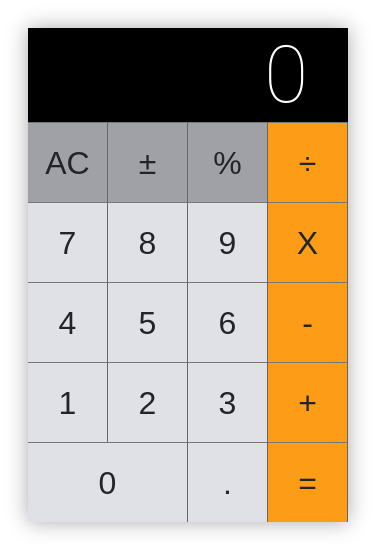
multiplies two numbers
Click the button "2" at (148, 402), box [108, 362, 188, 442]
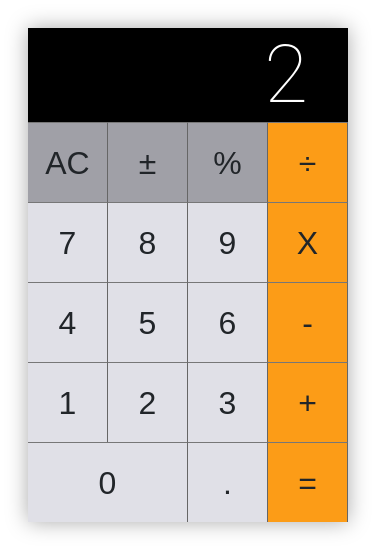
Click the button "X" at (308, 242), box [268, 202, 348, 282]
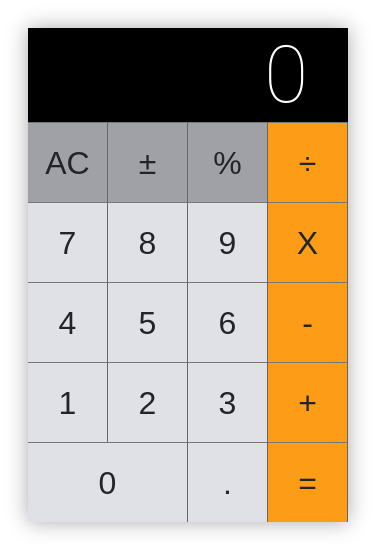
Click the button "7" at (68, 242), box [28, 202, 108, 282]
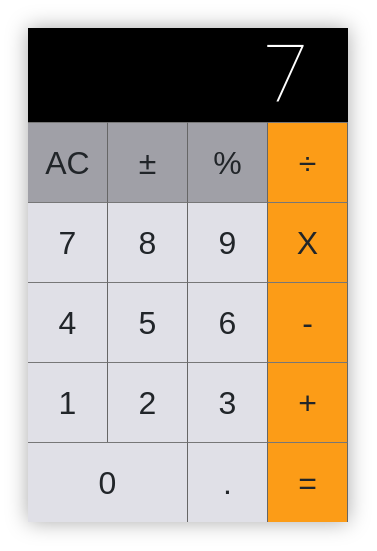
Click the button "=" at (308, 482), box [268, 442, 348, 522]
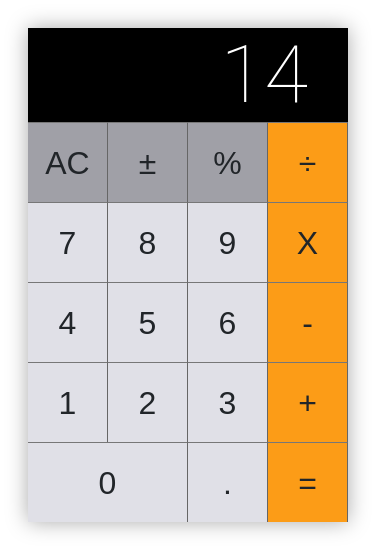
expect the element with class "calc-screen" reads "14": met, box [220, 28, 308, 122]
